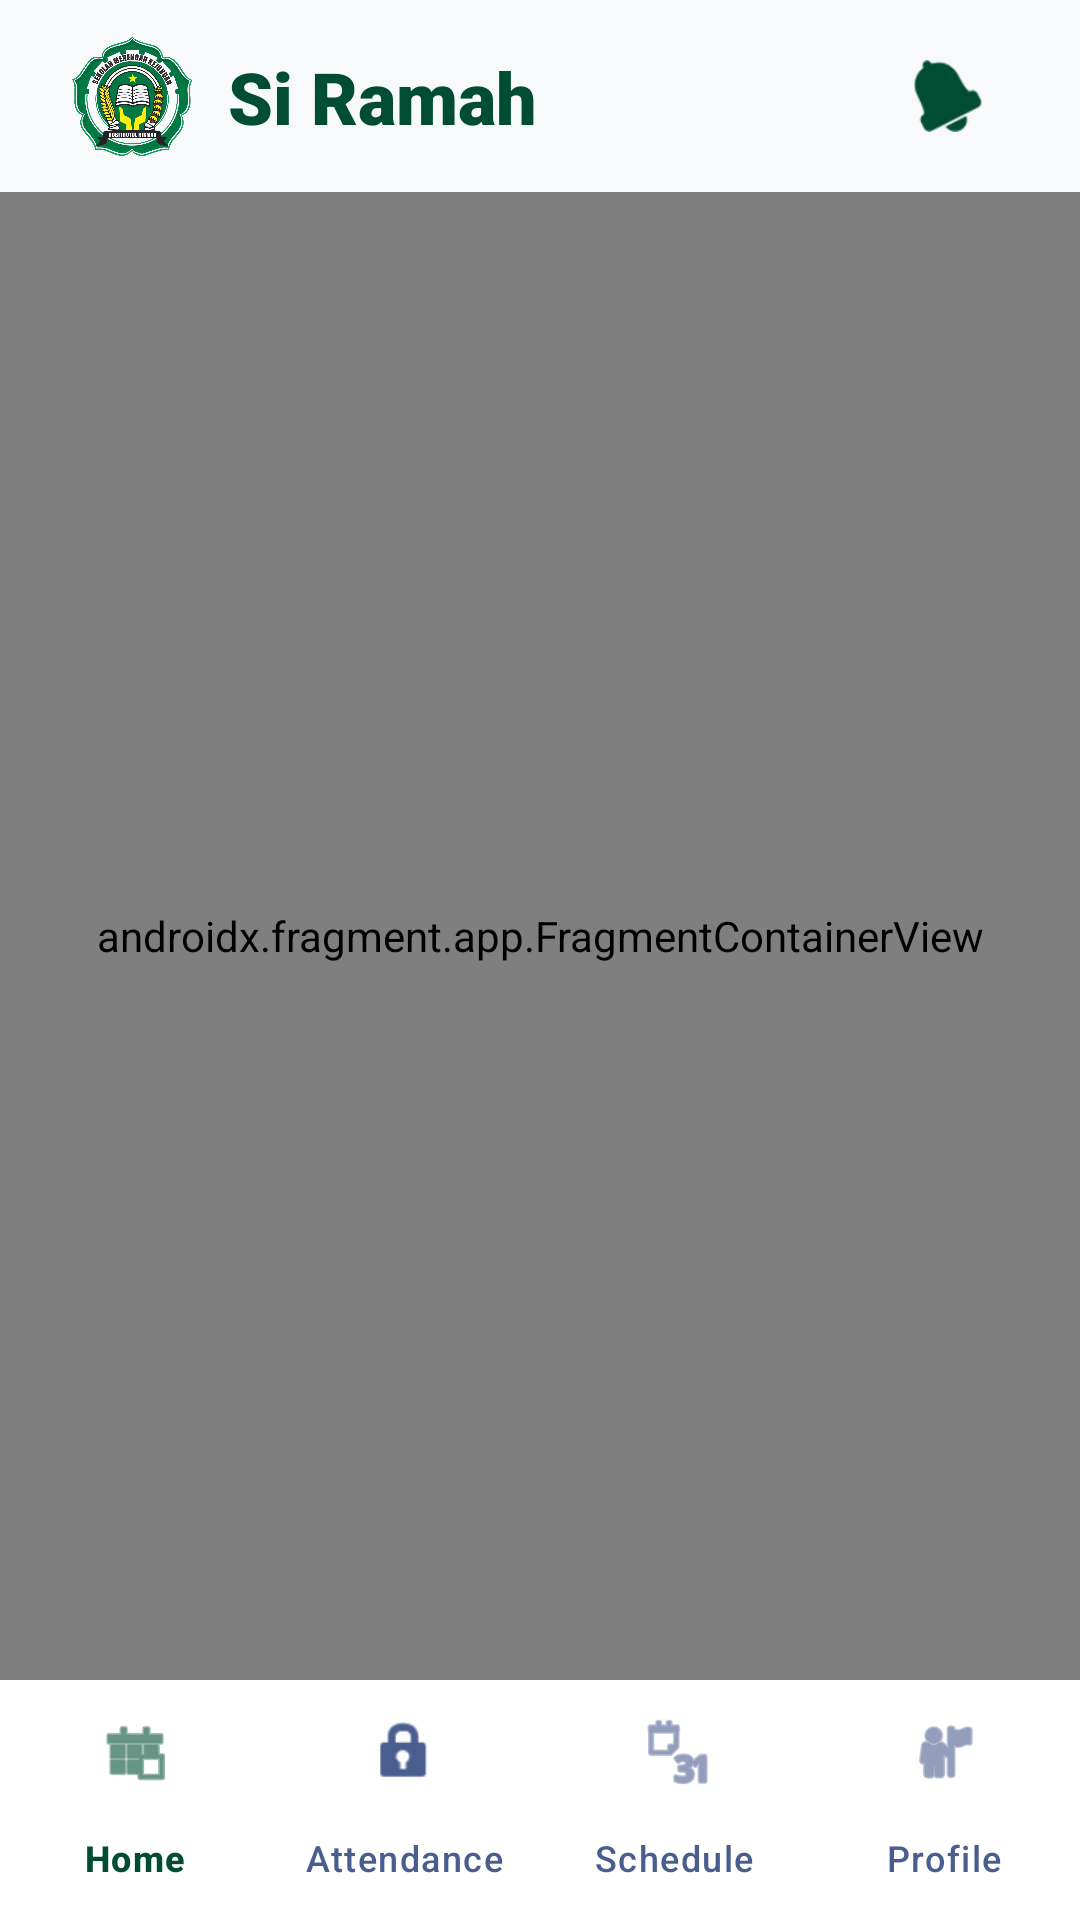

Screen size 1080x1920. Icon name, then its center in pixels as (x=x, y=y):
popup reminder: (x=948, y=96)
